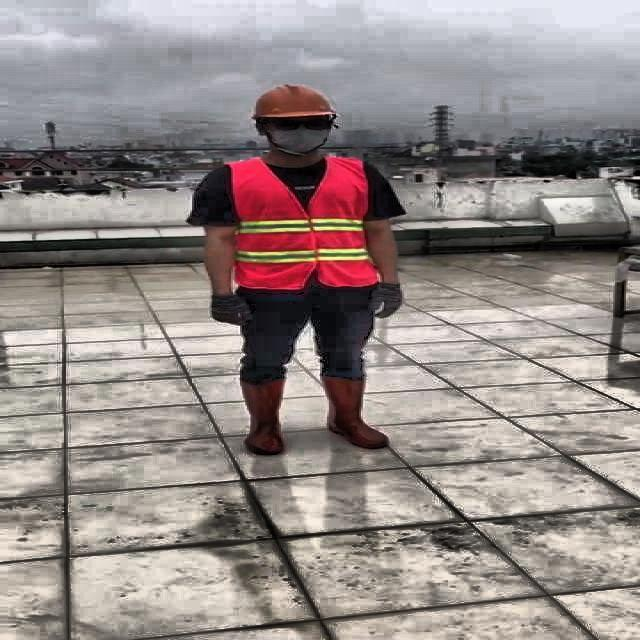safety_helmet: (248, 80, 339, 121)
safety_jacket: (231, 155, 377, 287)
